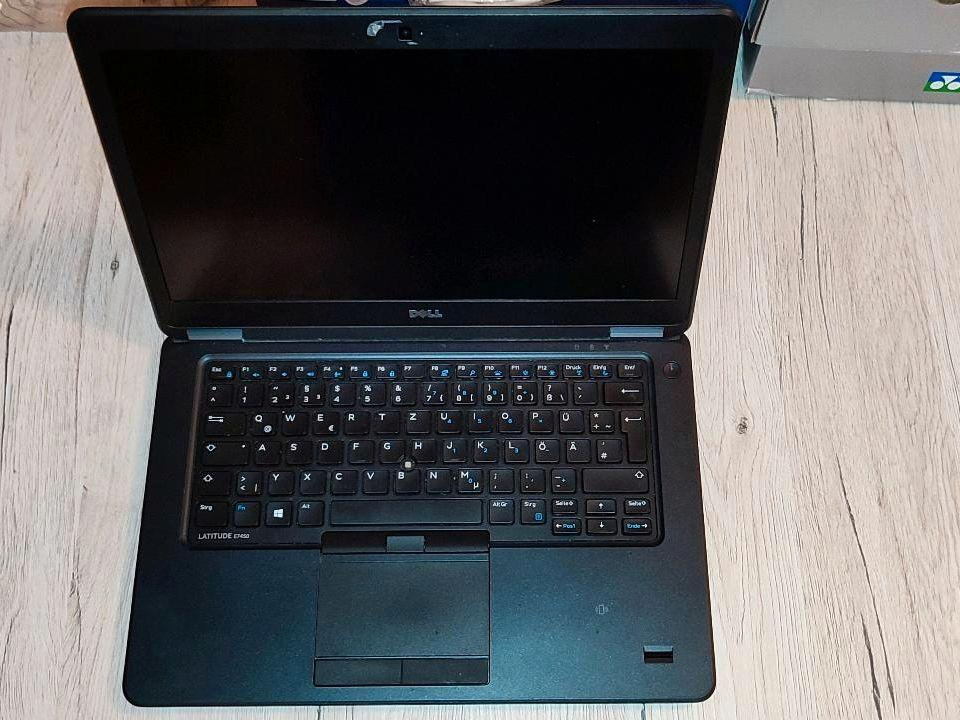0: (510, 379, 536, 404)
1: (234, 381, 261, 406)
2: (265, 381, 293, 406)
3: (296, 380, 324, 405)
4: (327, 380, 354, 405)
5: (357, 380, 384, 405)
6: (388, 380, 415, 405)
7: (419, 380, 446, 404)
8: (450, 379, 477, 404)
9: (481, 379, 506, 404)
a: (252, 438, 279, 464)
accent: (570, 380, 596, 403)
ae: (563, 436, 590, 462)
alt-left: (295, 498, 323, 524)
altgr-right: (486, 496, 514, 523)
b: (392, 467, 419, 493)
c: (329, 467, 357, 494)
caret: (205, 383, 231, 405)
comma: (486, 466, 513, 492)
d: (315, 438, 342, 463)
del: (602, 380, 644, 402)
e: (310, 408, 338, 434)
enter: (617, 406, 646, 462)
f: (345, 437, 372, 463)
g: (377, 437, 402, 462)
h: (408, 437, 435, 461)
hash: (594, 436, 621, 462)
i: (466, 407, 492, 431)
j: (440, 436, 465, 461)
k: (471, 435, 497, 461)
keyboard: (184, 352, 664, 546)
l: (502, 436, 528, 462)
less: (233, 469, 260, 494)
m: (455, 466, 482, 492)
minus: (548, 465, 575, 492)
n: (423, 466, 450, 492)
o: (496, 407, 522, 432)
oe: (532, 436, 558, 462)
p: (526, 407, 552, 431)
plus: (587, 407, 614, 432)
point: (517, 466, 544, 492)
q: (247, 410, 276, 435)
r: (342, 408, 369, 434)
s: (283, 438, 311, 464)
shift-left: (194, 469, 230, 495)
shift-lock: (199, 439, 249, 465)
shift-right: (580, 465, 649, 491)
space: (328, 498, 482, 524)
ss: (540, 379, 566, 404)
strg-left: (193, 500, 227, 525)
strg-right: (519, 498, 547, 525)
t: (372, 409, 399, 433)
tab: (202, 410, 244, 434)
u: (434, 407, 460, 432)
ue: (556, 407, 583, 432)
v: (360, 467, 387, 493)
w: (280, 409, 307, 434)
x: (298, 467, 324, 493)
y: (266, 468, 293, 494)
z: (403, 408, 430, 433)
